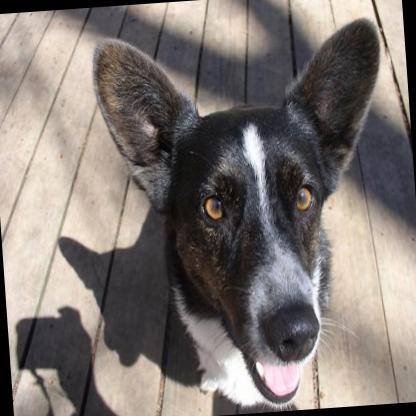Cardigan: (88, 16, 412, 416)
